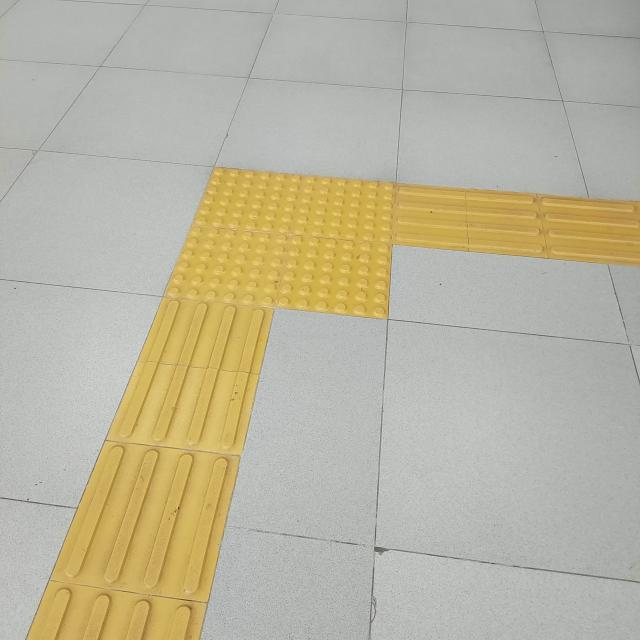kanan: (81, 117, 571, 376)
